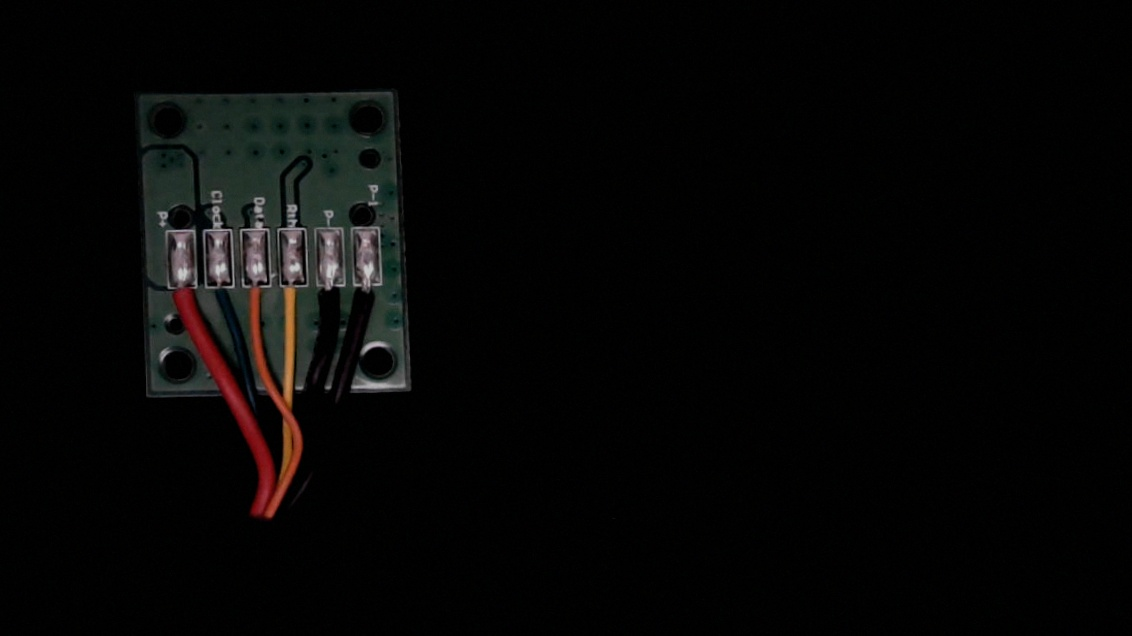Black: (317, 273, 345, 326)
Black1: (352, 273, 383, 325)
Green: (208, 274, 237, 322)
Orange: (243, 273, 270, 326)
Red: (165, 277, 199, 330)
Yellow: (279, 272, 306, 327)
